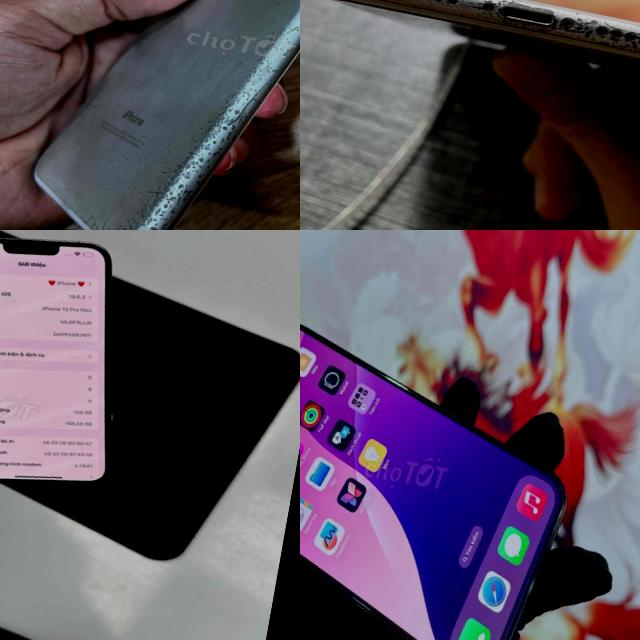gen_12_13: (0, 230, 156, 506)
gen_15: (300, 306, 591, 640)
gen_7_8: (1, 0, 300, 230), (300, 0, 640, 95)
